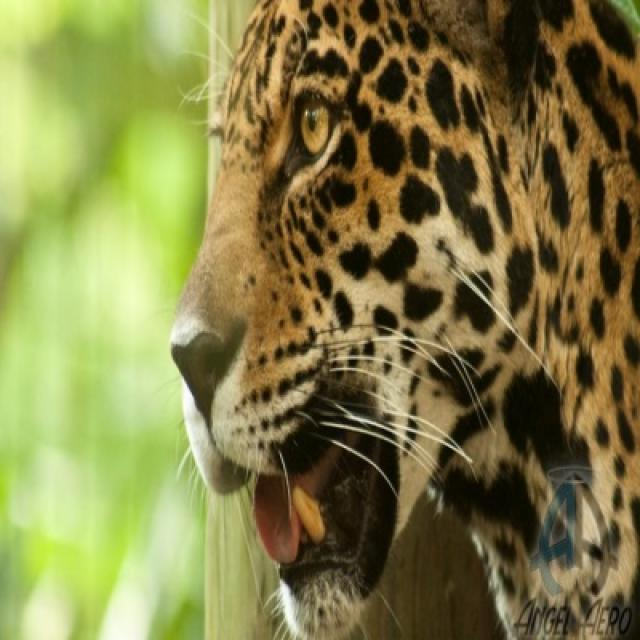Jaguar: (170, 0, 638, 638)
